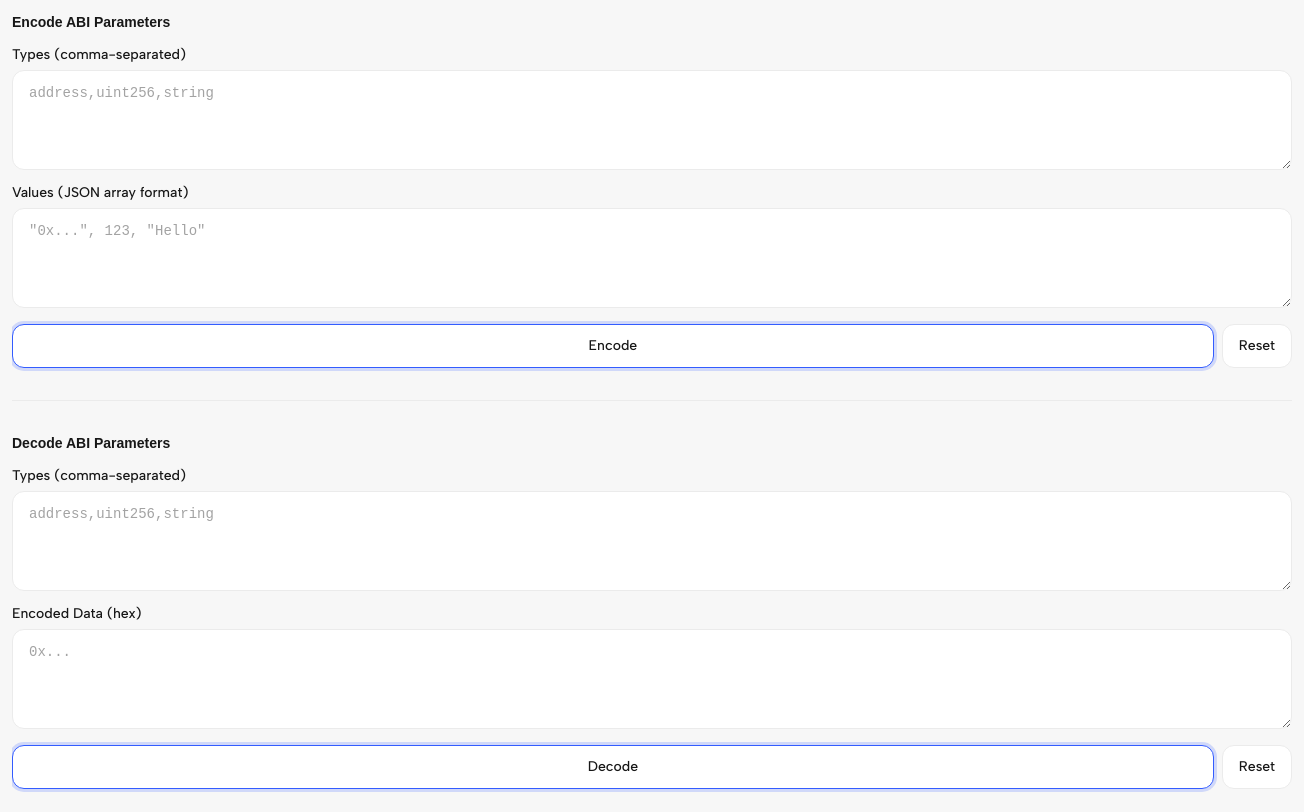
Test case: AbiEncoderTool › resets encode section when reset is clicked
The width and height of the screenshot is (1304, 812).
Type "address" into the text box with placeholder "address,uint256,string" below "Encode ABI Parameters" at point(652, 120), box [12,70,1292,170]
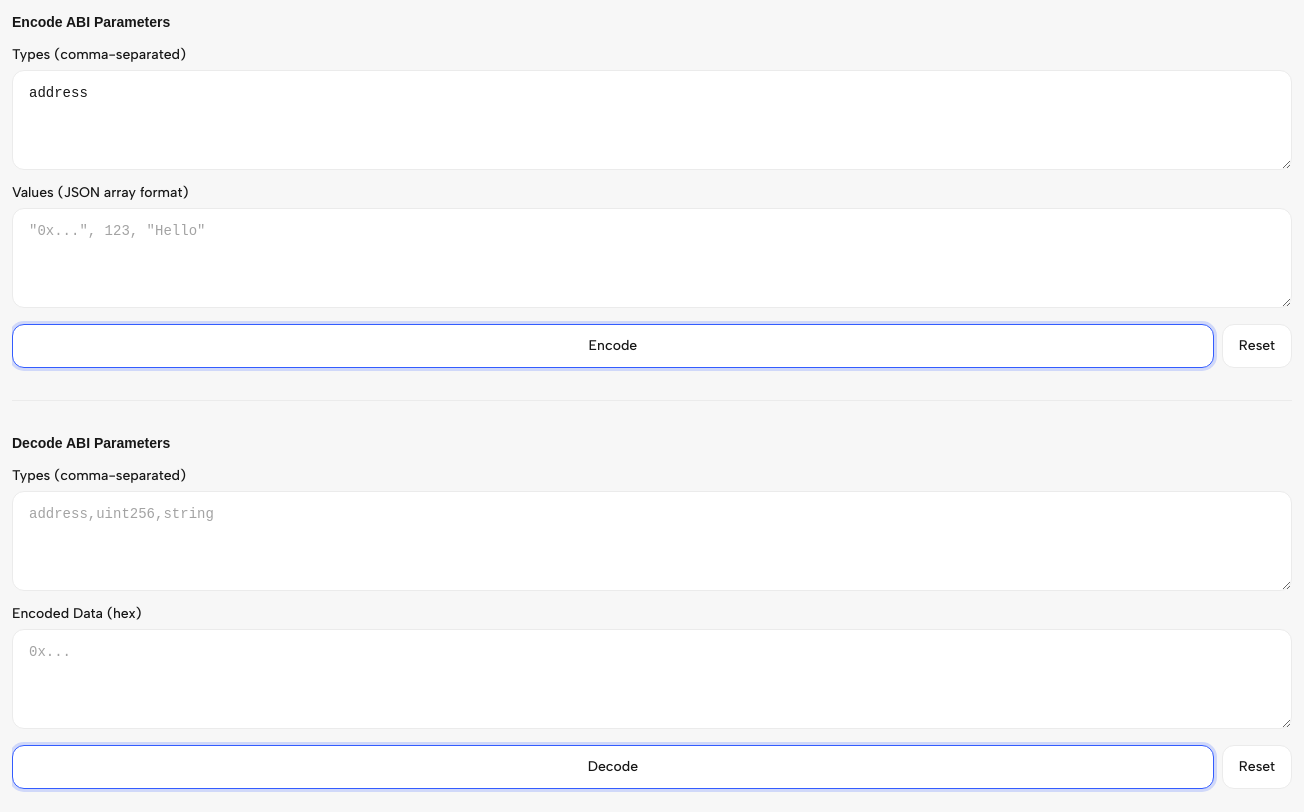
Type "\"0x1234\"" into the text box with placeholder "\"0x...\", 123, \"Hello\"" at point(652, 258), box [12,208,1292,308]
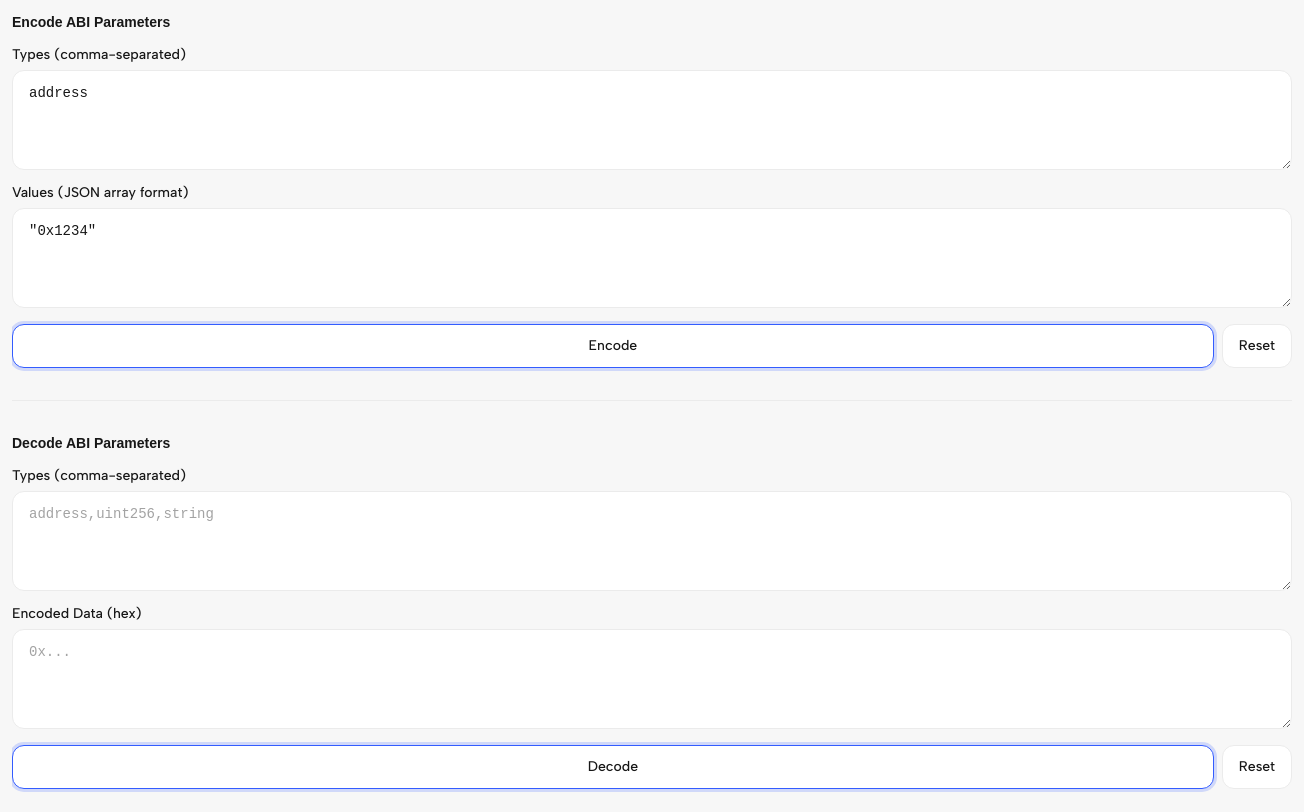
Click the 1st button "Reset" at point(1257, 346), box [1222,324,1292,368]
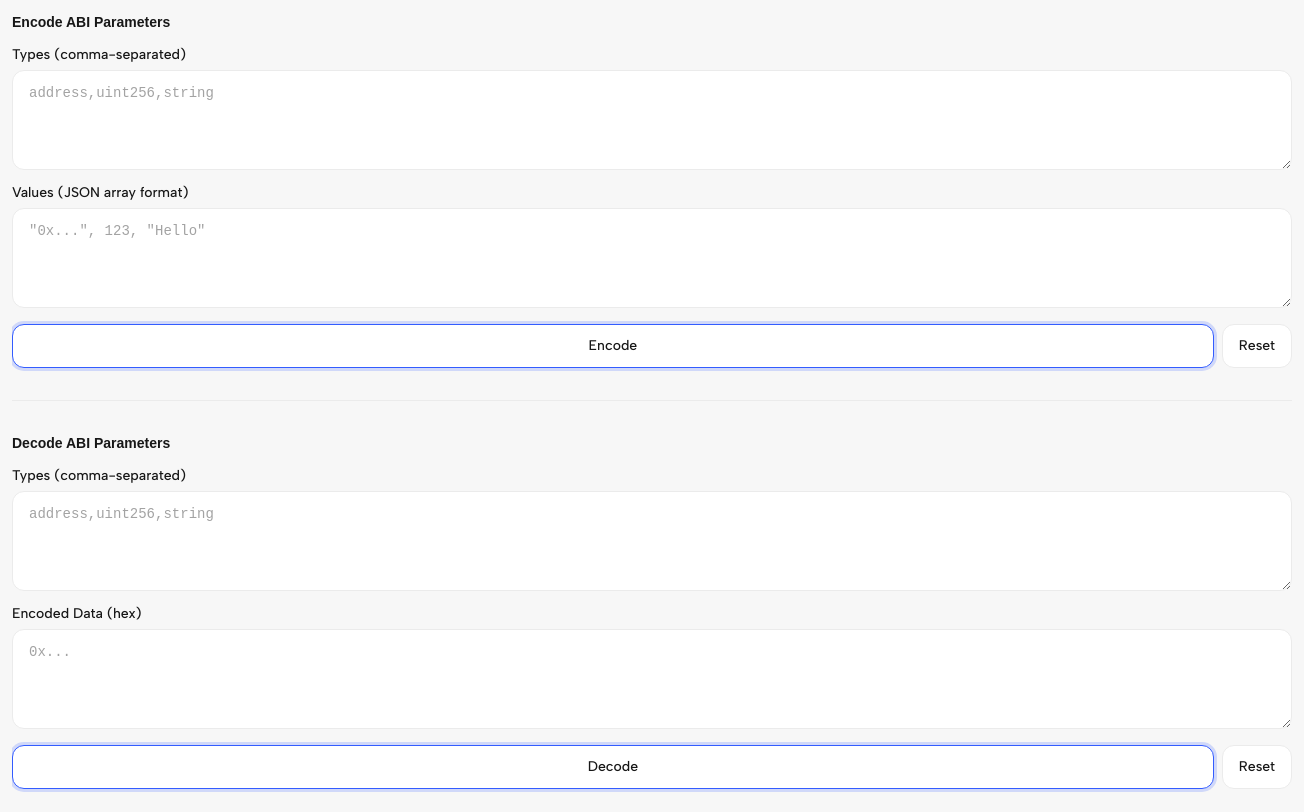
Now the text box with placeholder "address,uint256,string" below "Encode ABI Parameters" is empty, box [12,70,1292,170]
Now the text box with placeholder "\"0x...\", 123, \"Hello\"" is empty, box [12,208,1292,308]
